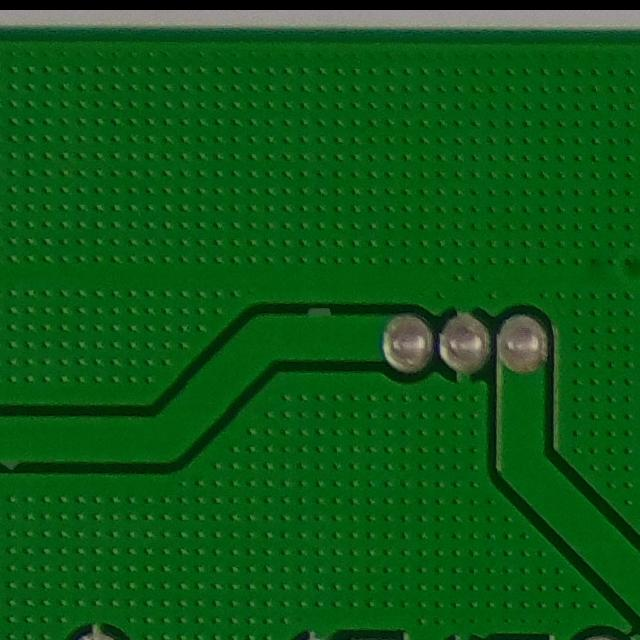spur: (291, 297, 349, 343)
